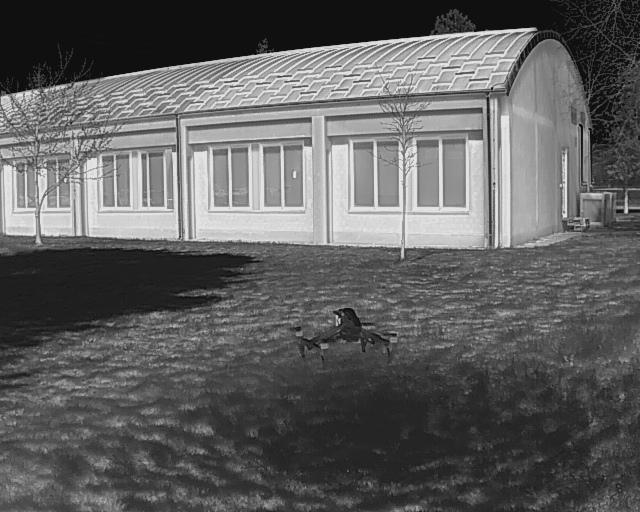drone: (276, 294, 412, 380)
